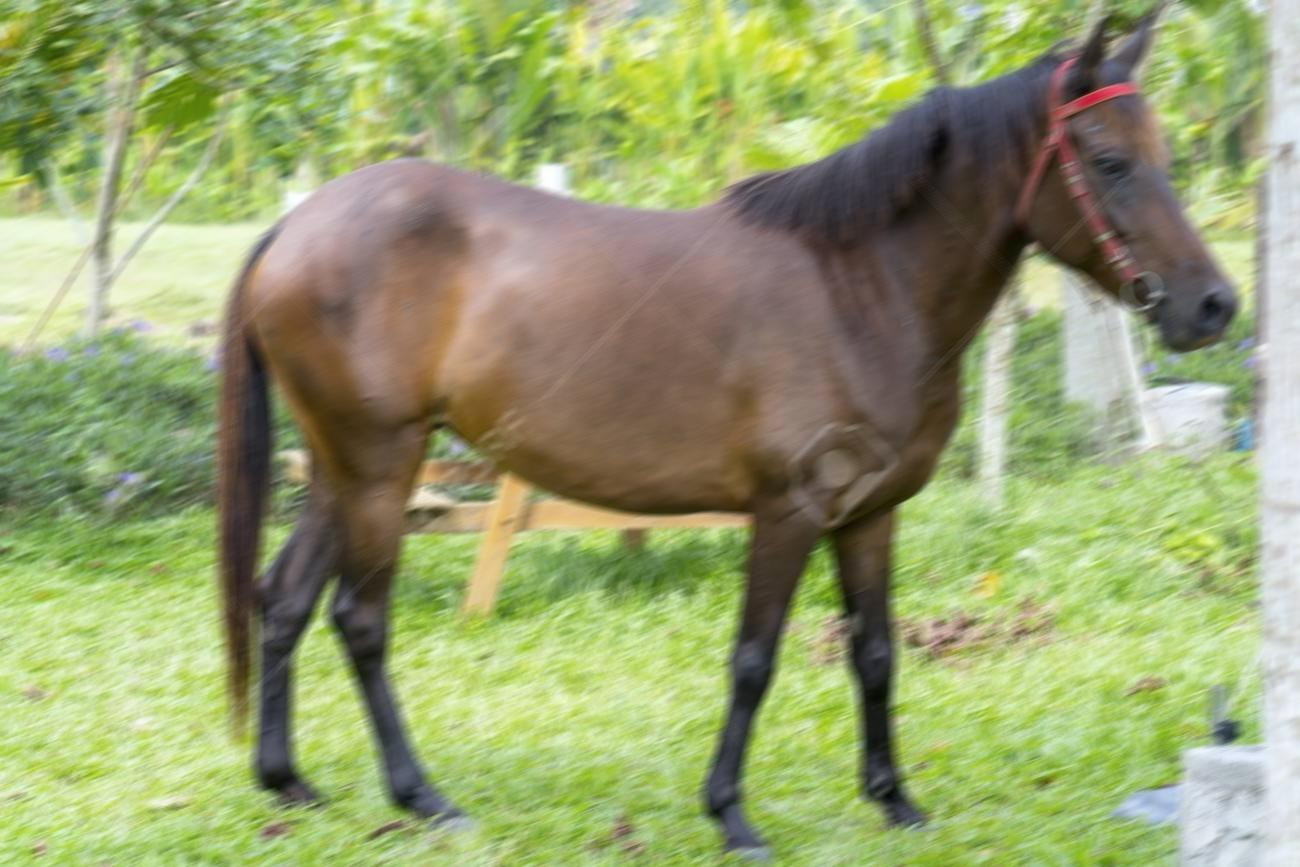horse: (200, 1, 1248, 866)
